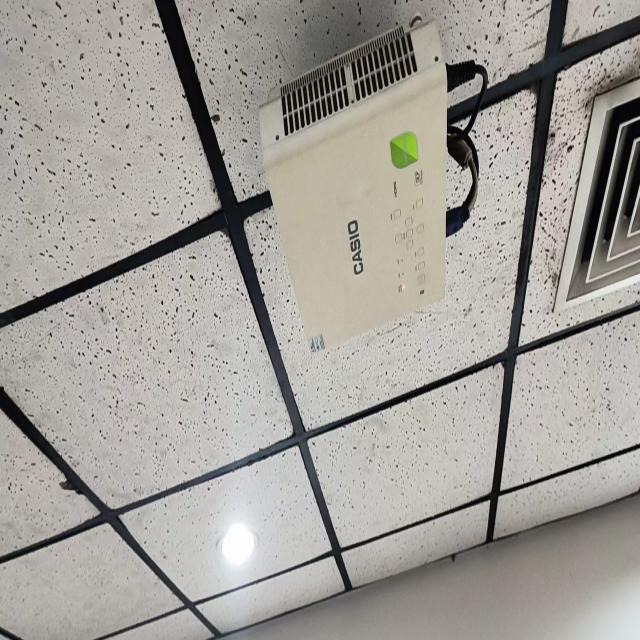Light: (221, 523, 255, 565)
Projector: (260, 15, 450, 348)
